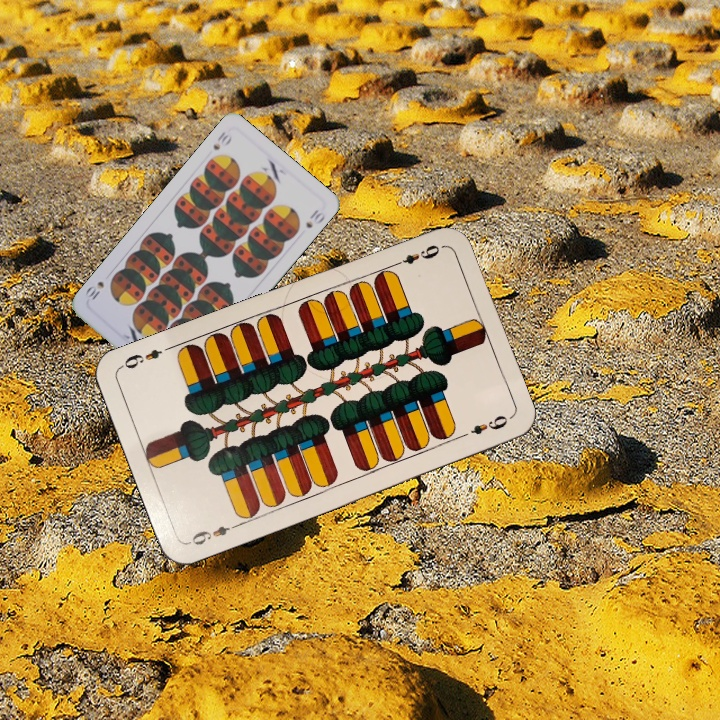E9: (184, 519, 241, 548), (389, 240, 446, 269)
S10: (209, 127, 235, 153)
